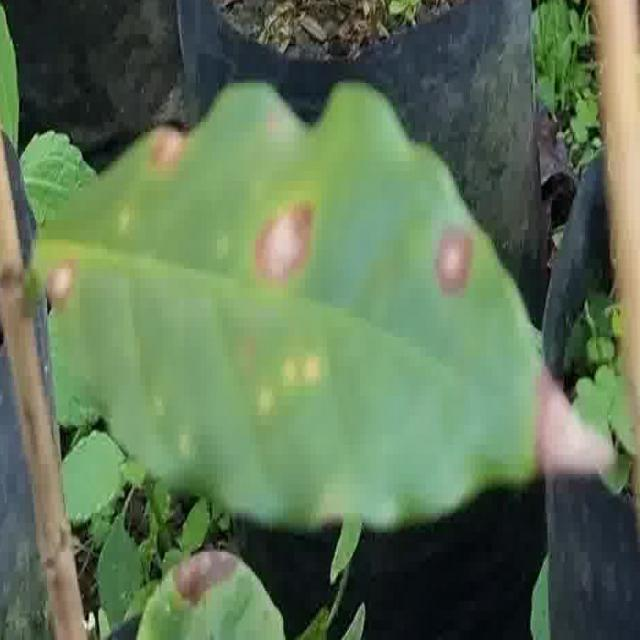leaves: (35, 83, 541, 527)
